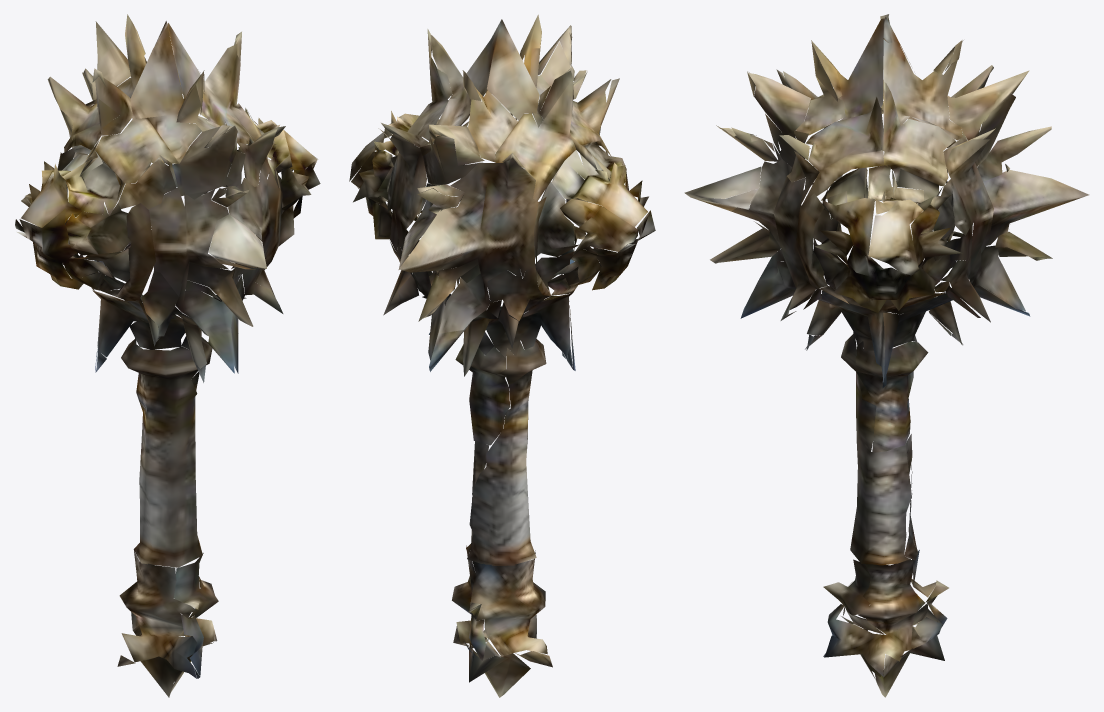
The model's file is gilded_lion_mace.glb.
The picture shows the model from 3 angles, left to right: view 1: azimuth 30°, elevation 25°; view 2: azimuth 150°, elevation 25°; view 3: azimuth 270°, elevation 25°; orthographic projection.
Visible parts, largest first — view 1: gilded_lion_mace; view 2: gilded_lion_mace; view 3: gilded_lion_mace.
Boxes of the visible parts, bbox=[...] form: gilded_lion_mace: bbox=[15, 14, 320, 697]; gilded_lion_mace: bbox=[349, 14, 655, 697]; gilded_lion_mace: bbox=[684, 14, 1089, 697].
Bounding box in the file's own units: 0.3175 × 0.7159 × 0.3866.
Materials: 1 (1 with a texture image).
